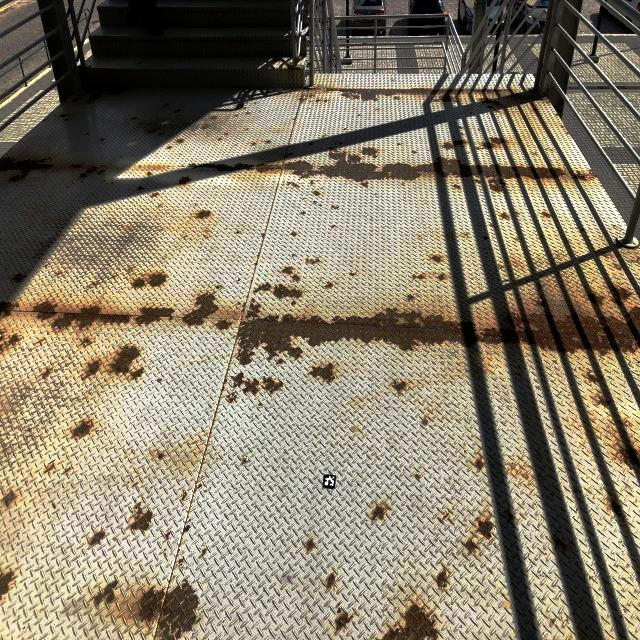Corrosion: (237, 297, 640, 365), (190, 149, 570, 193), (138, 581, 198, 640), (325, 86, 510, 101), (380, 603, 439, 640), (51, 306, 129, 329), (0, 156, 52, 181), (182, 292, 218, 326), (110, 345, 139, 375), (135, 307, 173, 327), (93, 580, 118, 607), (230, 372, 259, 395), (130, 502, 152, 531), (309, 362, 336, 383), (131, 273, 166, 288), (0, 570, 17, 600), (619, 447, 640, 470), (84, 86, 132, 96), (33, 300, 58, 319), (273, 283, 302, 298), (335, 611, 353, 635), (80, 359, 100, 380), (71, 419, 93, 438), (611, 286, 631, 306), (262, 376, 283, 395), (476, 517, 493, 540), (0, 300, 20, 319), (0, 490, 17, 508), (608, 498, 622, 519), (442, 139, 468, 150), (479, 96, 504, 107), (463, 539, 479, 555), (587, 292, 605, 306), (90, 530, 106, 545), (436, 568, 448, 588), (80, 165, 98, 178), (253, 282, 272, 293), (362, 146, 378, 158), (86, 93, 103, 104), (371, 507, 384, 521), (215, 319, 231, 330), (6, 335, 20, 347), (572, 170, 586, 181), (130, 368, 143, 379), (555, 538, 566, 551), (598, 396, 611, 407), (392, 381, 406, 391), (490, 136, 505, 145), (587, 372, 599, 383), (196, 209, 210, 218), (327, 573, 335, 588), (13, 274, 26, 283), (306, 540, 315, 553), (82, 338, 93, 348), (475, 459, 485, 470), (42, 367, 51, 379), (507, 511, 516, 523), (282, 266, 294, 275), (43, 464, 54, 473), (430, 255, 441, 264), (178, 176, 190, 184), (482, 141, 494, 149), (534, 300, 547, 307), (193, 483, 202, 493), (273, 56, 283, 63), (236, 103, 246, 110), (325, 281, 333, 289), (201, 123, 210, 130), (542, 211, 551, 218), (291, 274, 300, 281), (183, 525, 190, 534), (0, 330, 6, 340), (501, 213, 509, 220), (311, 259, 322, 264), (148, 128, 159, 133), (165, 531, 171, 540), (276, 359, 286, 364), (443, 512, 450, 519), (65, 466, 71, 474), (614, 263, 622, 269), (590, 168, 596, 176), (408, 295, 414, 303), (438, 273, 444, 281), (178, 556, 184, 564), (284, 153, 293, 158), (73, 164, 82, 169), (151, 192, 160, 197), (242, 303, 246, 314), (3, 341, 9, 348), (35, 340, 43, 345), (511, 93, 519, 98), (202, 548, 207, 556), (97, 169, 105, 174), (314, 190, 320, 196), (158, 454, 165, 459), (48, 460, 55, 465), (290, 300, 297, 305), (415, 473, 420, 480), (602, 253, 609, 258), (474, 179, 481, 184), (454, 184, 461, 189), (177, 138, 184, 143), (0, 342, 3, 353), (72, 98, 80, 102), (288, 61, 293, 67), (400, 586, 405, 592), (337, 608, 342, 614), (418, 274, 424, 279), (181, 495, 186, 501), (138, 186, 144, 191), (174, 108, 180, 113), (210, 115, 217, 119), (223, 378, 227, 385), (551, 618, 555, 625), (261, 233, 265, 240), (129, 266, 134, 271), (133, 482, 138, 487), (438, 517, 443, 522), (229, 397, 233, 403), (532, 108, 538, 112), (310, 179, 314, 185), (147, 171, 153, 175), (132, 116, 138, 120), (299, 97, 304, 101), (412, 150, 417, 154), (458, 125, 463, 129), (258, 403, 263, 407), (231, 392, 235, 397), (350, 272, 355, 276), (500, 264, 504, 269), (222, 386, 225, 392), (637, 257, 640, 263), (293, 184, 299, 187), (252, 142, 256, 146), (309, 142, 313, 146), (394, 96, 398, 100), (226, 394, 230, 398), (331, 225, 335, 229), (313, 200, 317, 204), (167, 146, 171, 150), (56, 272, 61, 275), (43, 264, 48, 267), (111, 275, 116, 278), (28, 427, 31, 432), (52, 503, 55, 508), (316, 88, 321, 91), (266, 140, 271, 143), (306, 258, 309, 263), (301, 211, 306, 214), (163, 103, 168, 106), (300, 65, 304, 68), (218, 137, 221, 141), (476, 147, 480, 150), (234, 395, 237, 399), (631, 259, 634, 263), (581, 228, 584, 232), (516, 211, 519, 215), (490, 569, 493, 573), (501, 593, 505, 596), (292, 253, 295, 257), (413, 275, 416, 279), (288, 182, 292, 185), (490, 224, 494, 227), (254, 262, 258, 265), (134, 499, 136, 504), (294, 231, 296, 236), (334, 207, 339, 209), (250, 279, 252, 284), (317, 99, 320, 102), (235, 114, 238, 117), (340, 142, 343, 145), (398, 143, 401, 146), (448, 518, 451, 521), (625, 421, 628, 424), (338, 603, 341, 606), (484, 237, 487, 240), (238, 302, 241, 305), (184, 492, 187, 495), (139, 61, 142, 64), (246, 112, 250, 114), (461, 132, 463, 136), (331, 206, 335, 208), (178, 548, 180, 552), (93, 282, 95, 285), (324, 100, 327, 102), (343, 128, 346, 130), (481, 148, 484, 150), (398, 392, 401, 394), (556, 113, 558, 116), (566, 132, 569, 134), (310, 259, 312, 262), (292, 183, 295, 185), (257, 254, 259, 257), (180, 563, 182, 566), (182, 565, 184, 568), (548, 101, 550, 103), (295, 255, 297, 257), (465, 233, 467, 235), (238, 279, 240, 281)
